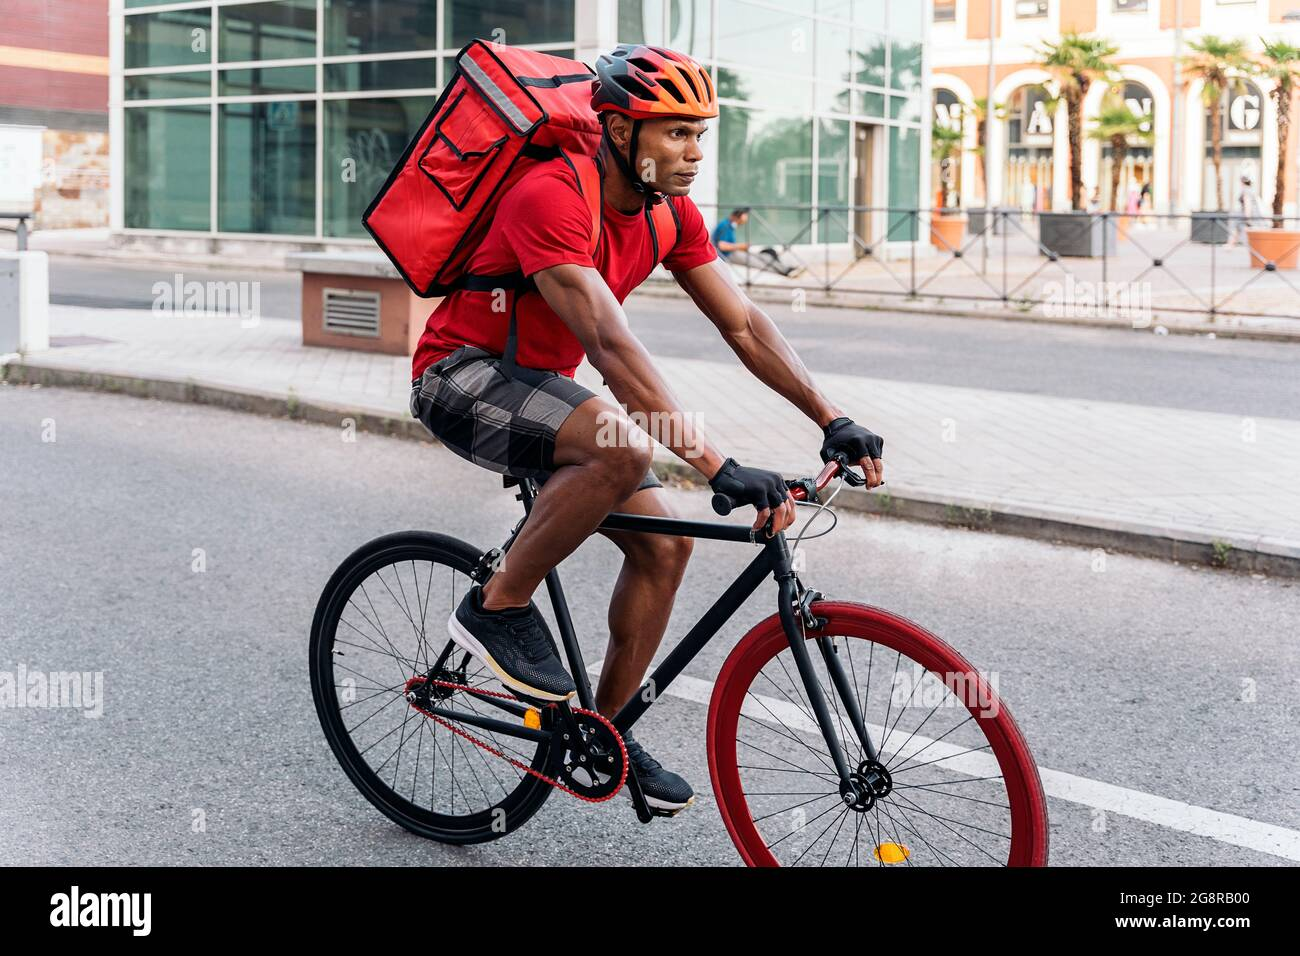helmet: (591, 43, 720, 206)
